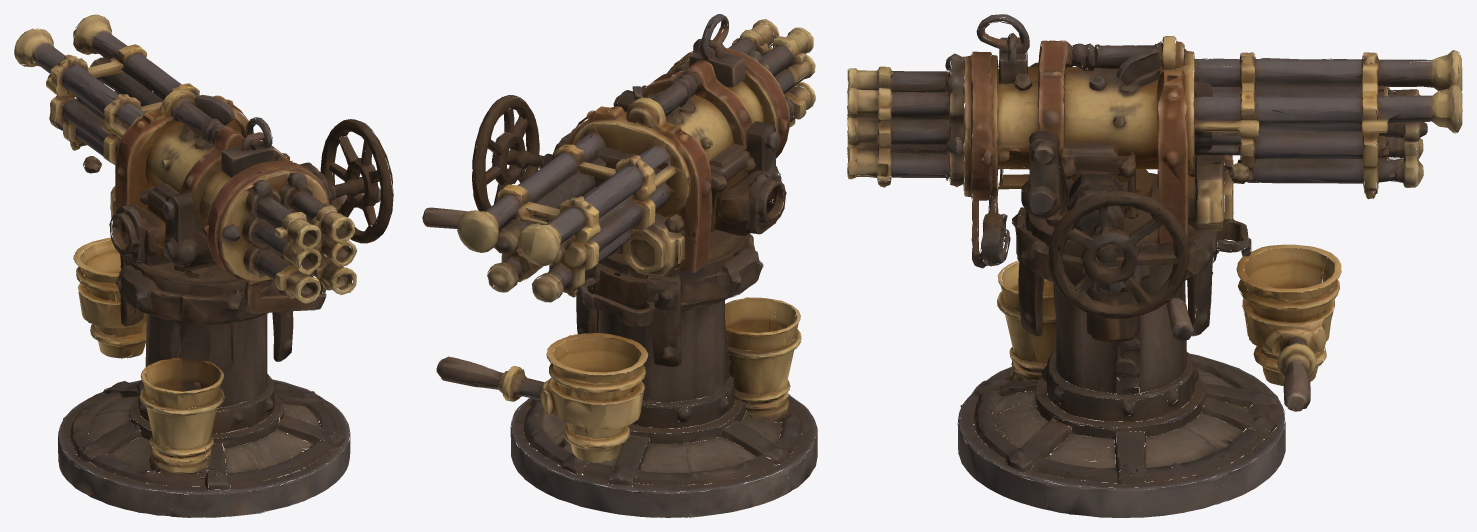
File: twin_gatling.glb
3 views of the same model, side by side, from view 1: azimuth 30°, elevation 25°; view 2: azimuth 150°, elevation 25°; view 3: azimuth 270°, elevation 25° (orthographic). The views are drawn at different scales.
Visible parts, largest first — view 1: base, gun, head, spin0; view 2: base, gun, spin0, head; view 3: base, gun, spin0, head.
Part boxes in pixels (x1,y1,x2,y2): base: (58,237,362,517); gun: (14,28,393,305); head: (115,187,386,320); spin0: (33,14,211,186); base: (436,240,817,517); gun: (472,14,815,300); spin0: (457,119,664,302); head: (422,171,763,304); base: (957,217,1341,517); gun: (847,14,1461,294); spin0: (1184,51,1462,239); head: (971,173,1248,341).
Bounding box in the file's own units: 1.83 × 2 × 2.57.
1 material, 1 textured.
